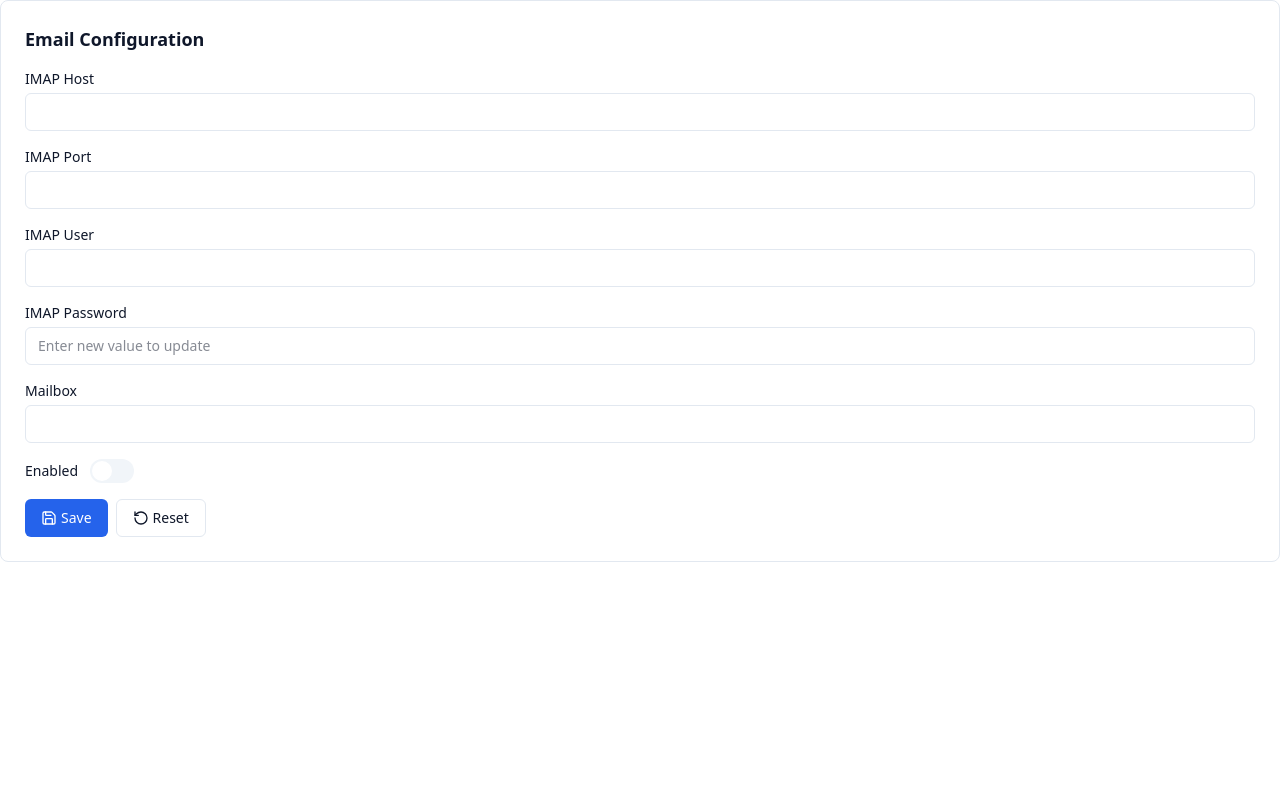
Scenario: ChannelConfigForm › shows error on save failure
The width and height of the screenshot is (1280, 800).
Click the button with test id "config-save-btn" at x=66, y=518, box [25,499,108,537]
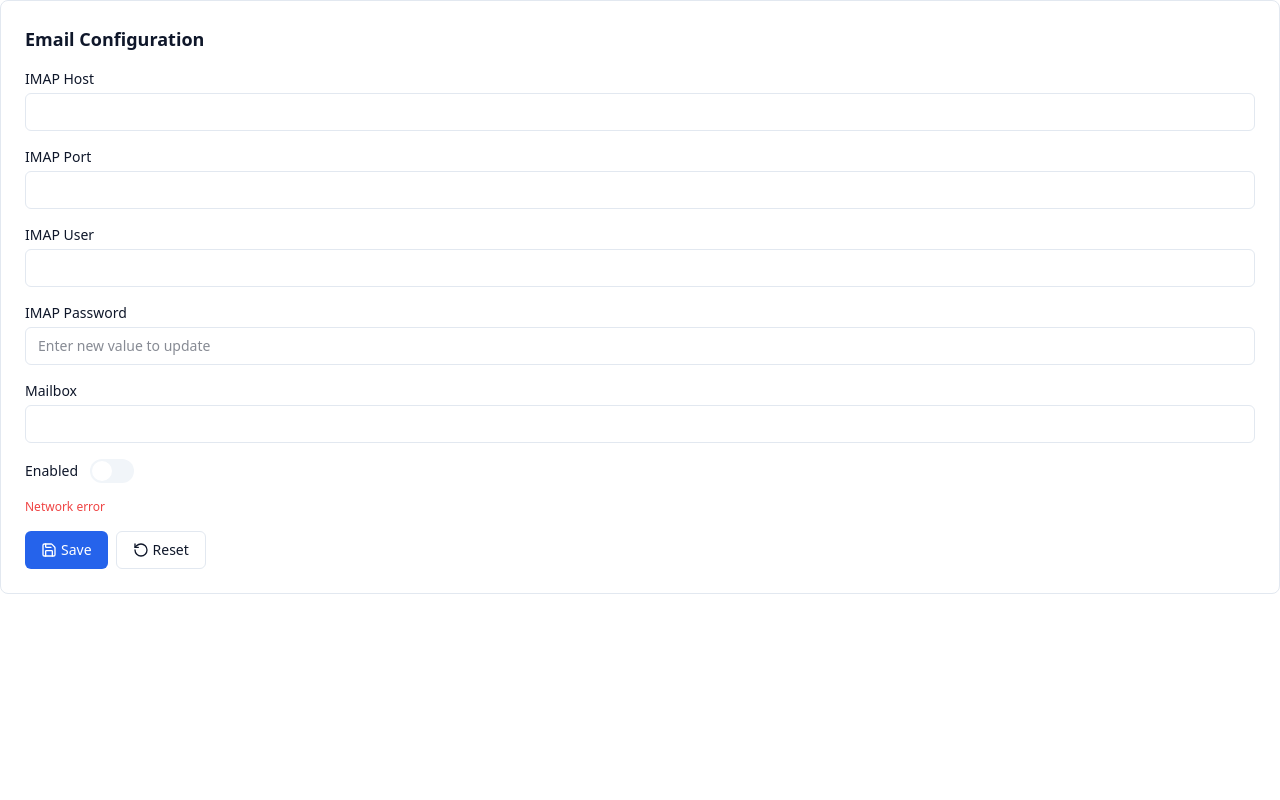
Check: the text with test id "config-error" reads "Network error", box [25,498,105,515]
